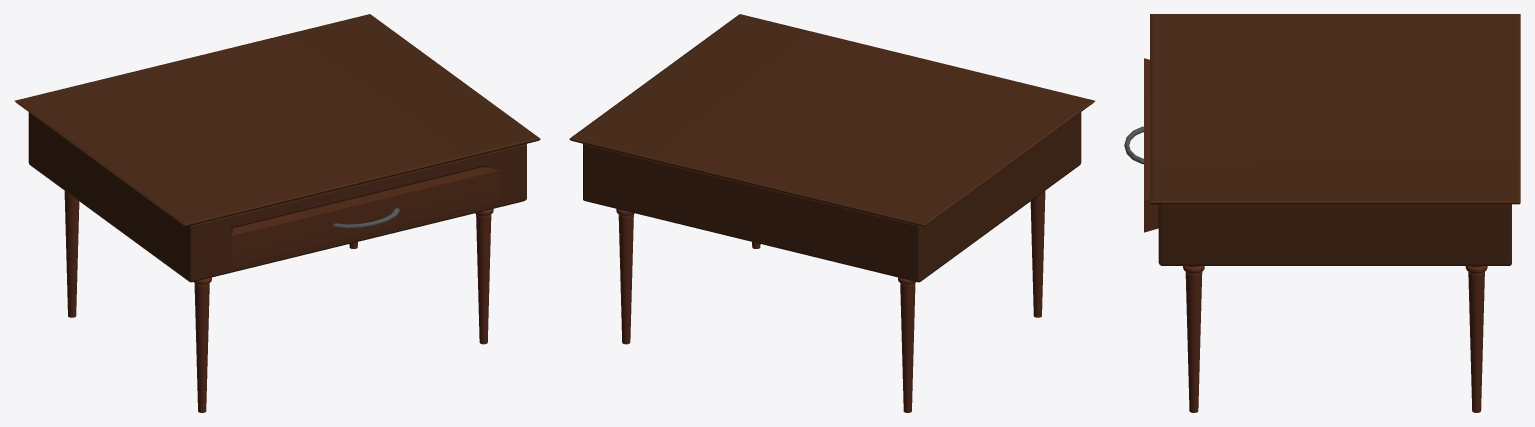
File: MOD_petitetable.fbx
3 renders of one model, left to right at view 1: azimuth 30°, elevation 25°; view 2: azimuth 150°, elevation 25°; view 3: azimuth 270°, elevation 25°, orthographic. The views are drawn at different scales.
Visible parts, largest first — view 1: Petite table; view 2: Petite table; view 3: Petite table.
Part boxes in pixels (x1=…): Petite table: x1=14, y1=14, x2=540, y2=412; Petite table: x1=569, y1=14, x2=1095, y2=412; Petite table: x1=1124, y1=14, x2=1520, y2=412.
Bounding box in the file's own units: 2.53 × 1.43 × 2.24.
